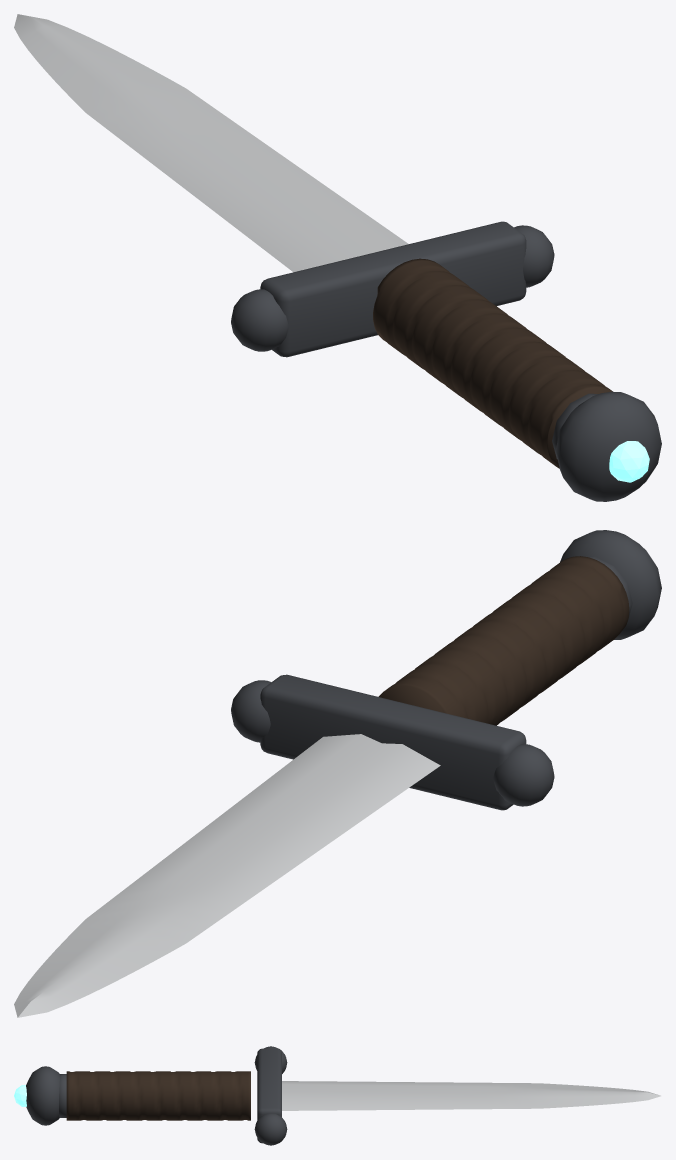
File: dagger.glb
3 views of the same model, one above another, from view 1: azimuth 30°, elevation 25°; view 2: azimuth 150°, elevation 25°; view 3: azimuth 270°, elevation 25° (orthographic). The views are drawn at different scales.
Visible parts, largest first — view 1: Dagger; view 2: Dagger; view 3: Dagger.
Boxes of the visible parts, box(x1,y1,x2,y2) form: Dagger: box(14, 14, 661, 501); Dagger: box(14, 530, 661, 1017); Dagger: box(14, 1046, 660, 1145).
Size of the model in its own units: 0.099 by 0.031 by 0.3375.
